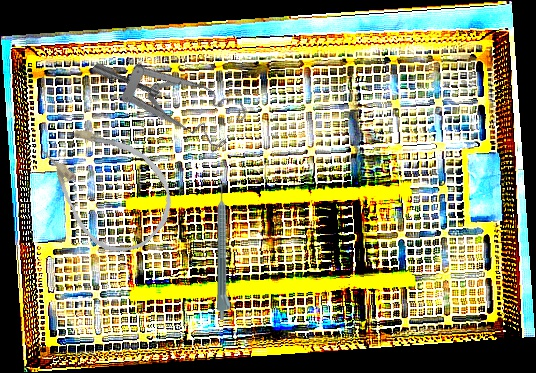Cannula: (23, 101, 191, 269)
Handpiece: (217, 184, 232, 320)
Speculum: (90, 10, 255, 175)
